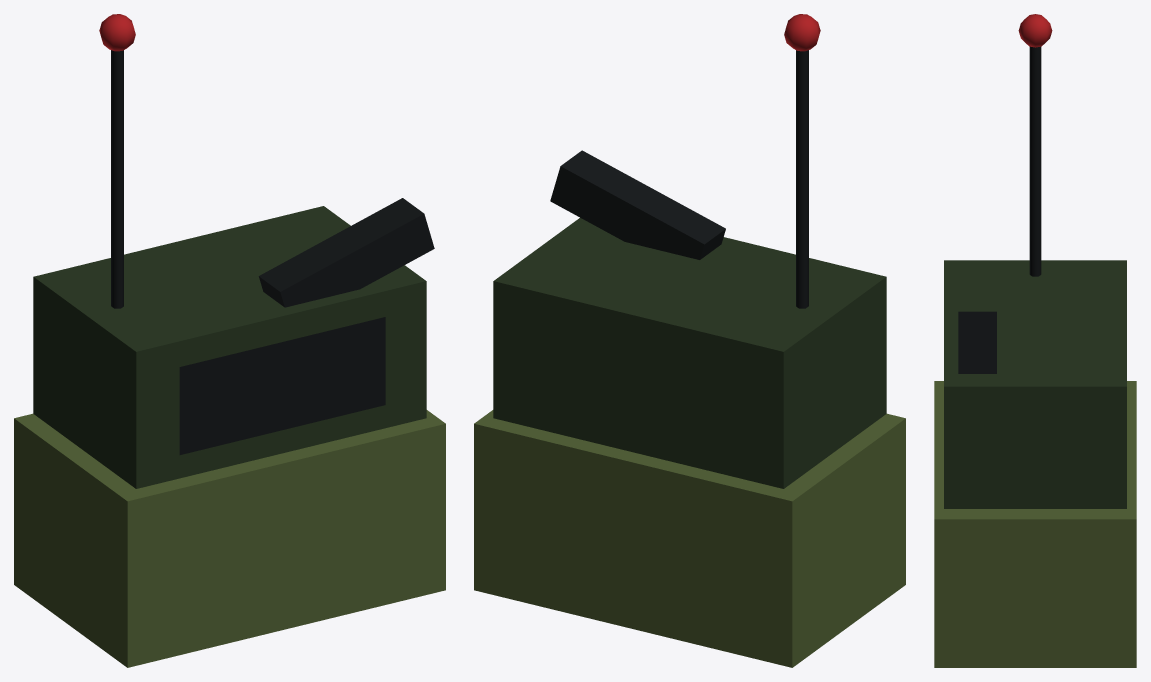
Rendered from radio-stack.glb.
3 views of the same model, side by side, from view 1: azimuth 30°, elevation 25°; view 2: azimuth 150°, elevation 25°; view 3: azimuth 270°, elevation 25° (orthographic). The views are drawn at different scales.
Parts seen in each view (by area): view 1: radioBoxLower, radioBoxUpper, dialPanel, handset, whipAntenna, whipAntennaTip; view 2: radioBoxUpper, radioBoxLower, handset, whipAntenna, whipAntennaTip; view 3: radioBoxUpper, radioBoxLower, whipAntenna, handset, whipAntennaTip.
Boxes of the visible parts, box(x1,y1,x2,y2) form: radioBoxLower: box(14, 410, 445, 667); radioBoxUpper: box(33, 206, 426, 488); dialPanel: box(179, 317, 385, 454); handset: box(258, 198, 434, 307); whipAntenna: box(111, 50, 123, 308); whipAntennaTip: box(99, 14, 135, 51); radioBoxUpper: box(493, 217, 886, 488); radioBoxLower: box(474, 410, 905, 667); handset: box(550, 150, 725, 259); whipAntenna: box(796, 50, 808, 308); whipAntennaTip: box(784, 14, 820, 51); radioBoxUpper: box(944, 260, 1126, 508); radioBoxLower: box(934, 381, 1136, 667); whipAntenna: box(1029, 46, 1041, 276); handset: box(958, 311, 996, 373); whipAntennaTip: box(1018, 14, 1052, 47).
Bounding box in the file's own units: 0.6848 × 1.22 × 0.42.
